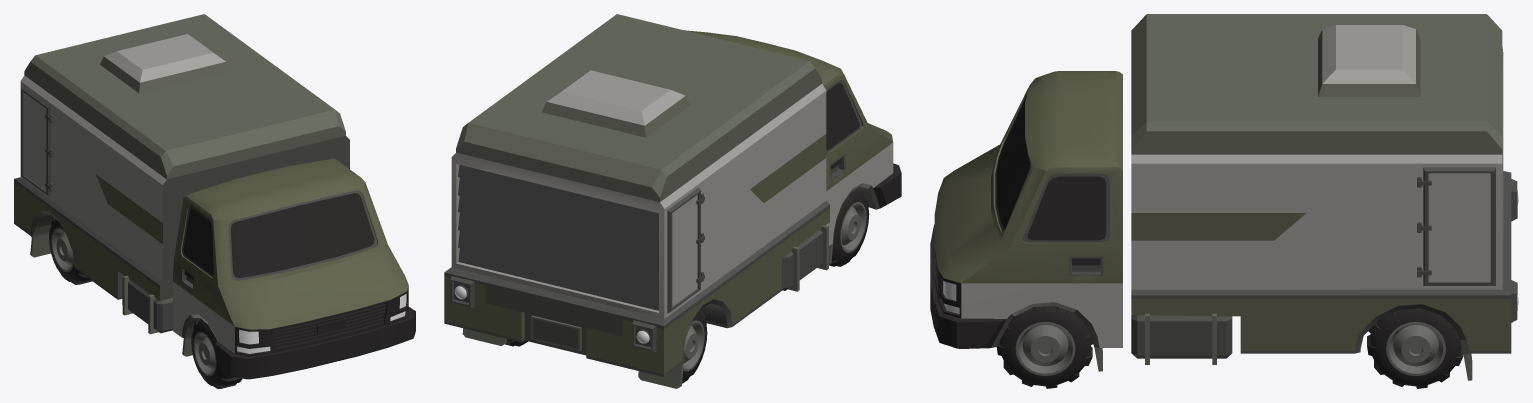
Rendered from vehicle-truck.glb.
3 views of the same model, side by side, from view 1: azimuth 30°, elevation 25°; view 2: azimuth 150°, elevation 25°; view 3: azimuth 270°, elevation 25° (orthographic). The views are drawn at different scales.
Visible parts, largest first — view 1: Truck, FrontWheel_R, BackWheels; view 2: Truck, FrontWheel_R, BackWheels; view 3: Truck, FrontWheel_L, BackWheels.
Boxes of the visible parts, box(x1,y1,x2,y2) form: Truck: box(14, 14, 415, 379); FrontWheel_R: box(191, 318, 241, 388); BackWheels: box(49, 218, 92, 284); Truck: box(444, 14, 901, 388); FrontWheel_R: box(829, 187, 869, 266); BackWheels: box(505, 309, 707, 383); Truck: box(930, 14, 1518, 380); FrontWheel_L: box(996, 305, 1093, 388); BackWheels: box(1367, 308, 1463, 388).
Size of the model in its own units: 2.71 by 2.88 by 5.26.
